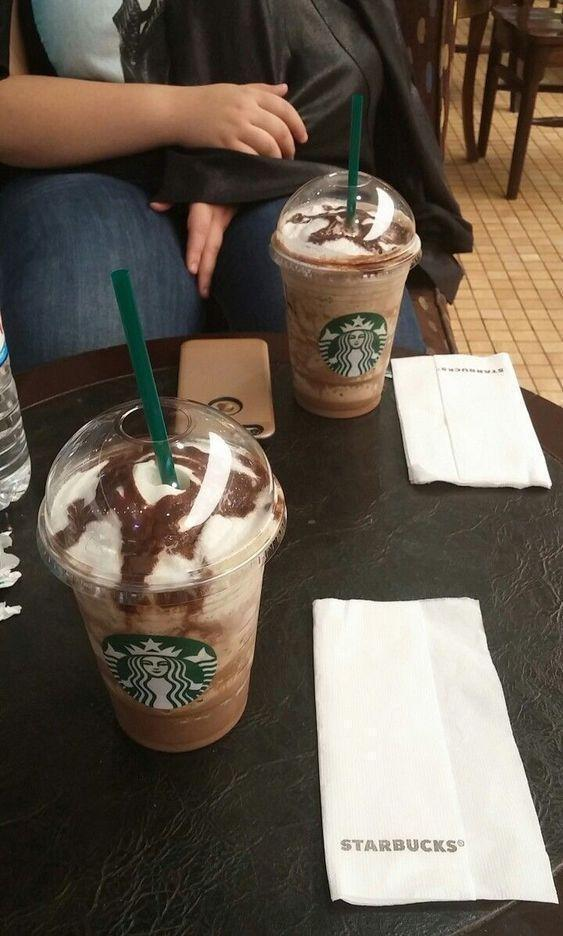cup-disposable: (33, 393, 285, 751), (270, 167, 422, 418)
